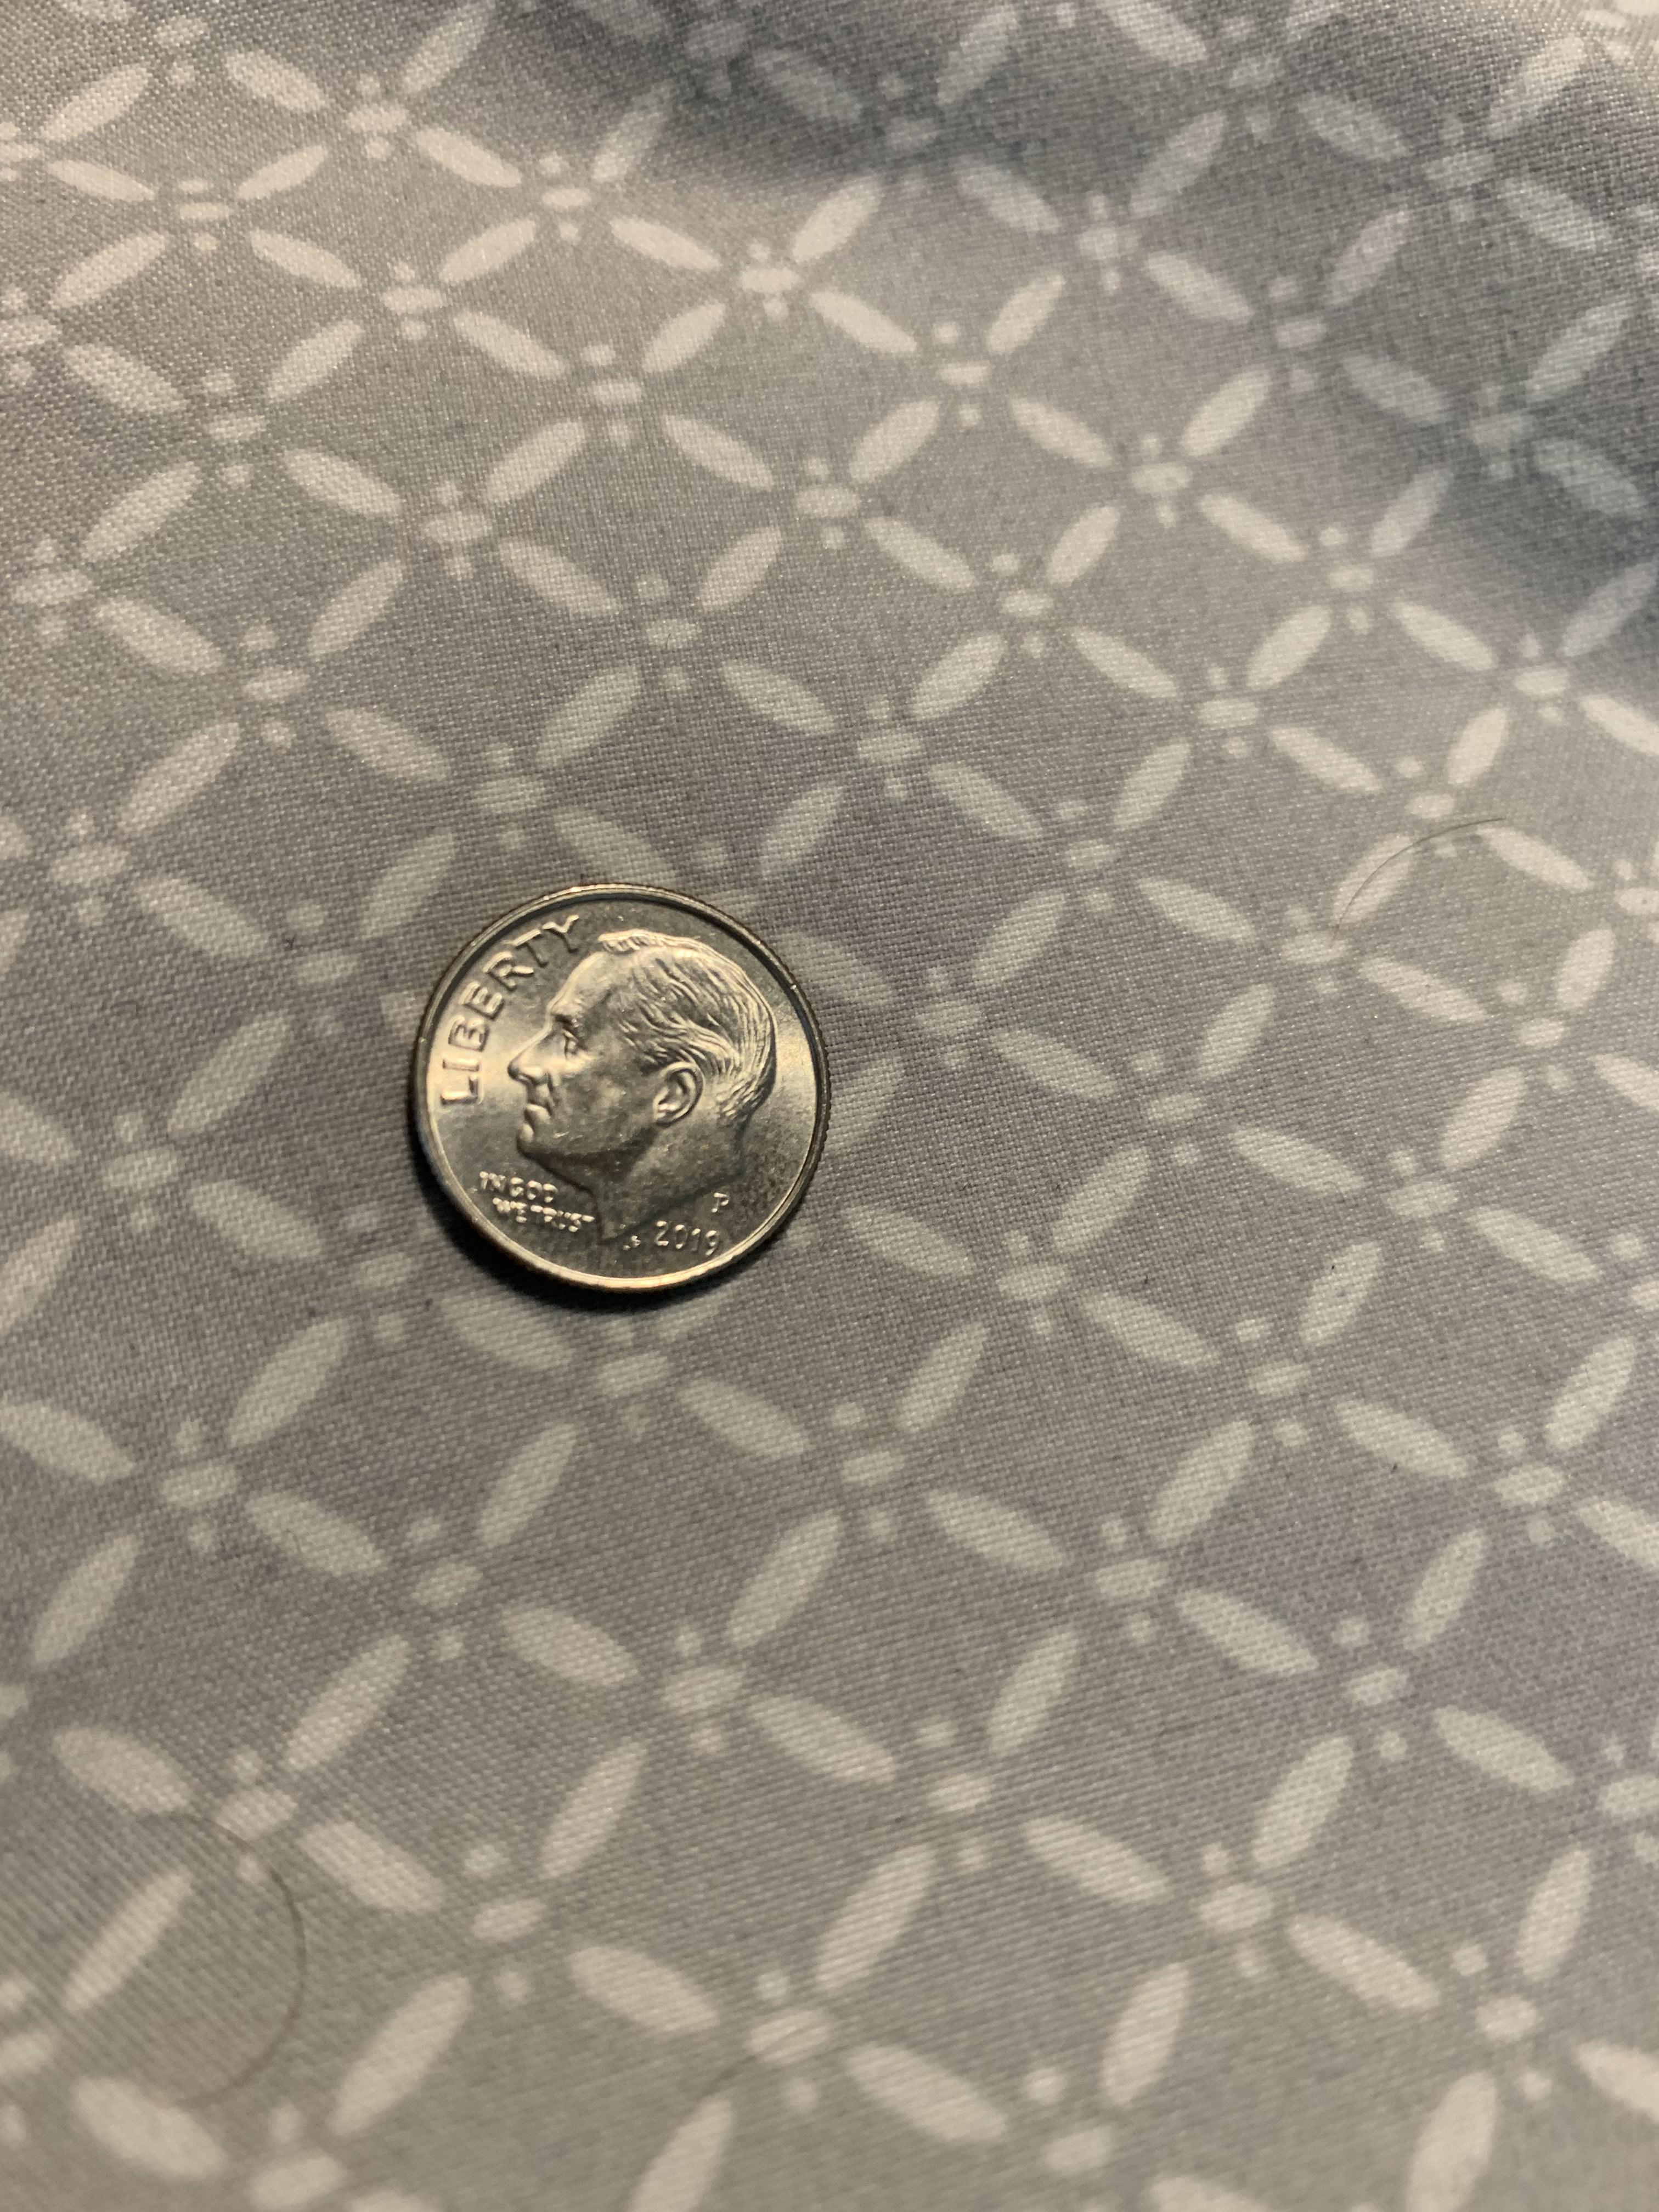Dime: (396, 862, 847, 1315)
